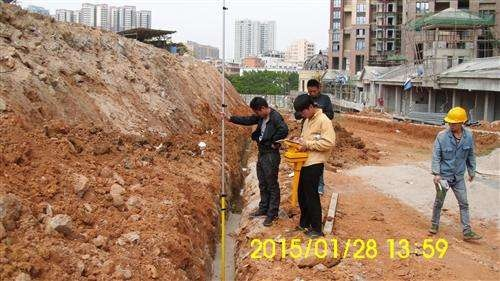none: (292, 93, 315, 119), (248, 94, 270, 119), (305, 78, 321, 97)
yellow: (444, 105, 468, 134)
